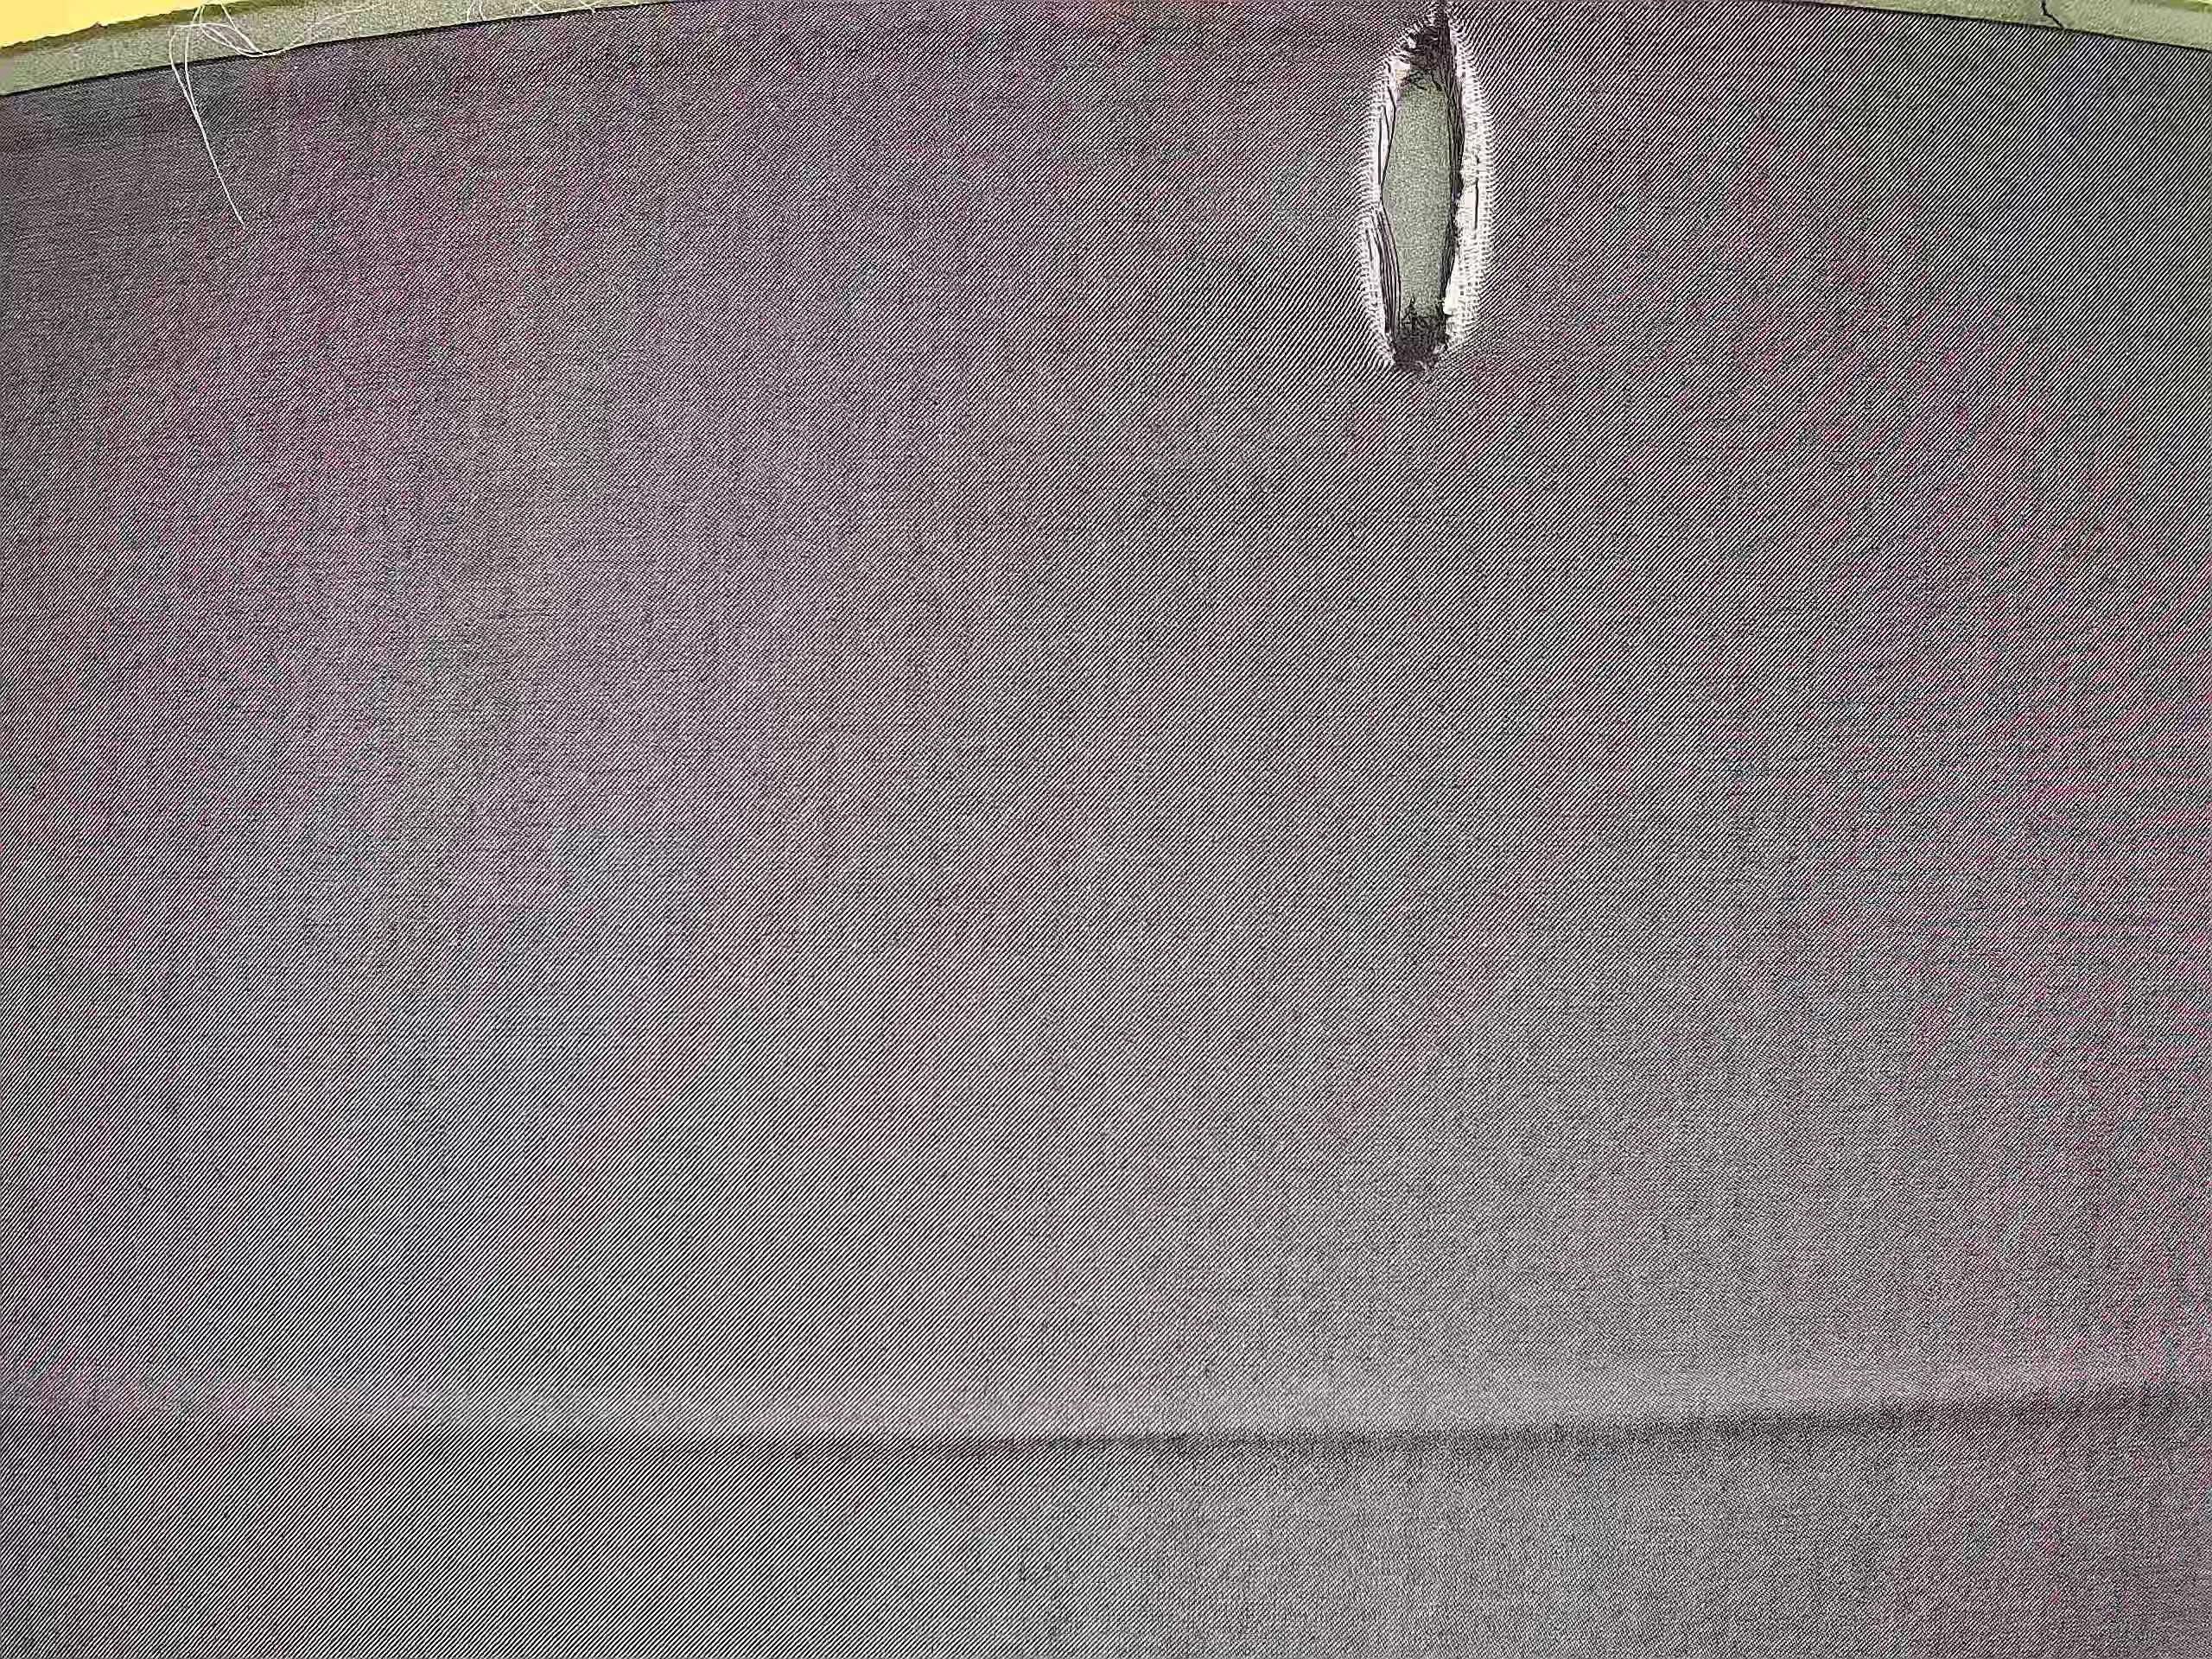rubbing-hole: (1339, 5, 1508, 389)
